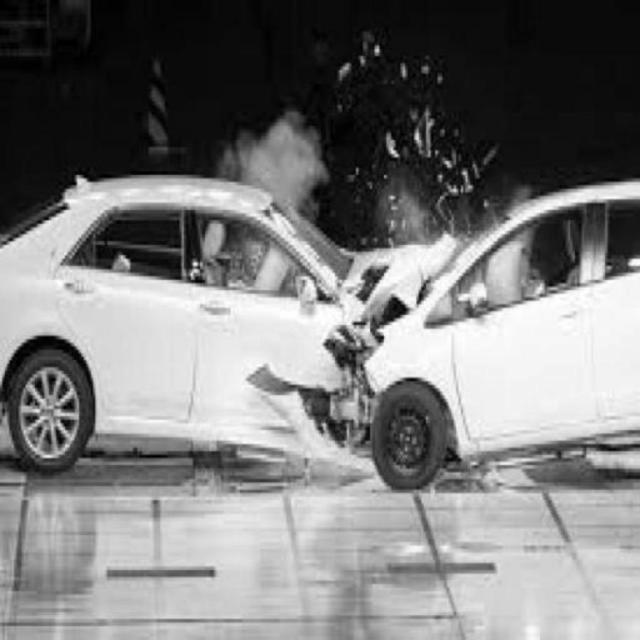accident: (14, 172, 632, 488)
